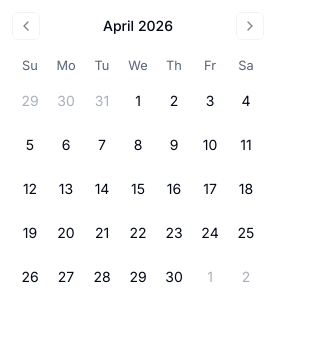
paging the calendar by swiping the day grid › shows the next month when the grid is dragged left
This screenshot has width=320, height=344.
Press the mouse on the table at (138, 176), box [12,56,264,295]
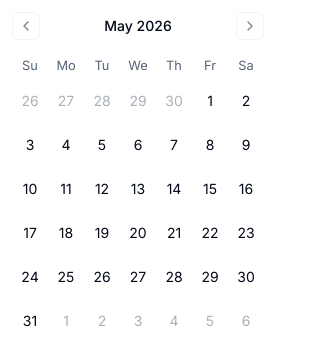
Expected: the message "May 2026" is shown, [104,16,172,36]
